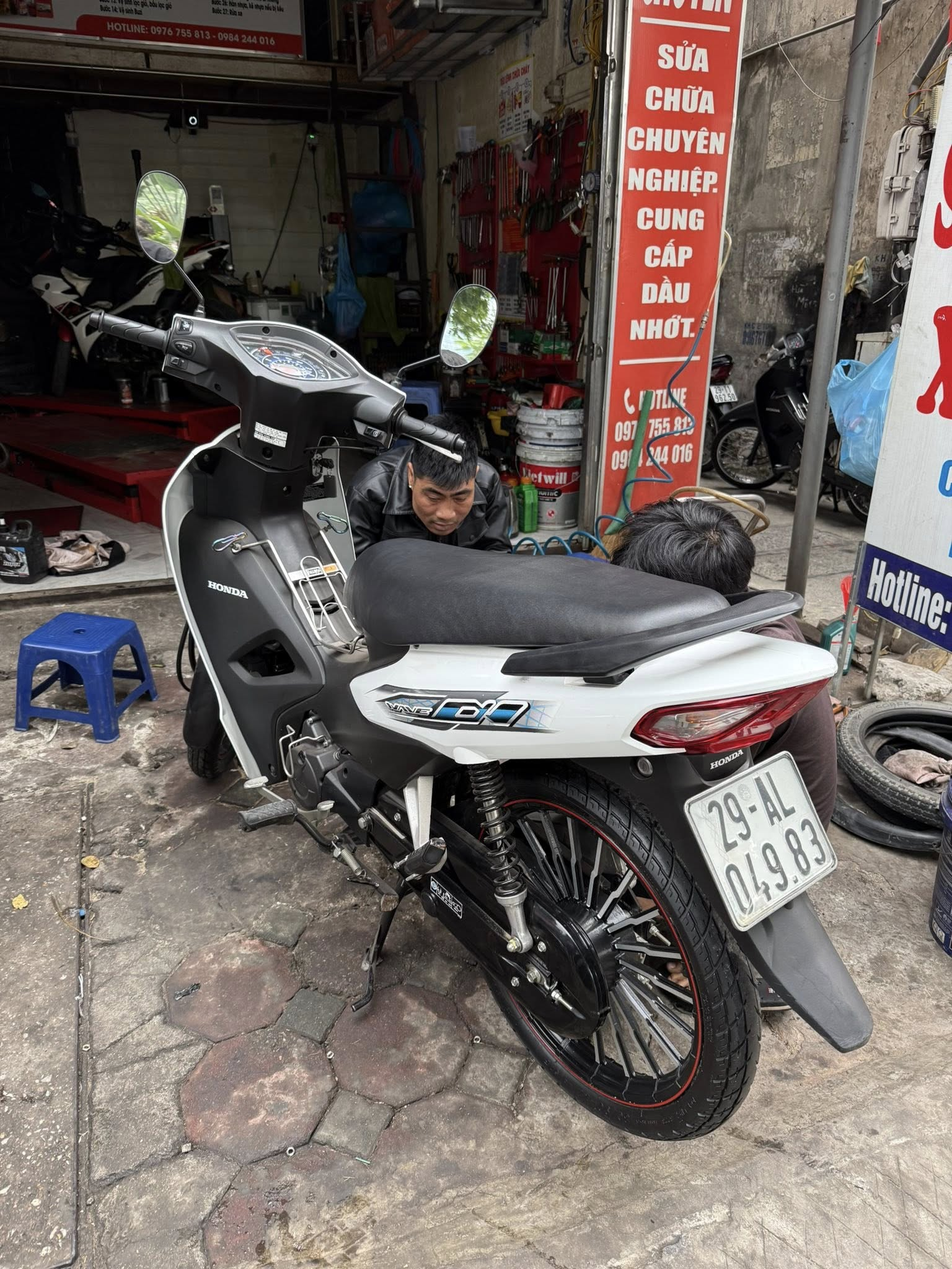bien_so: (675, 739, 849, 941)
